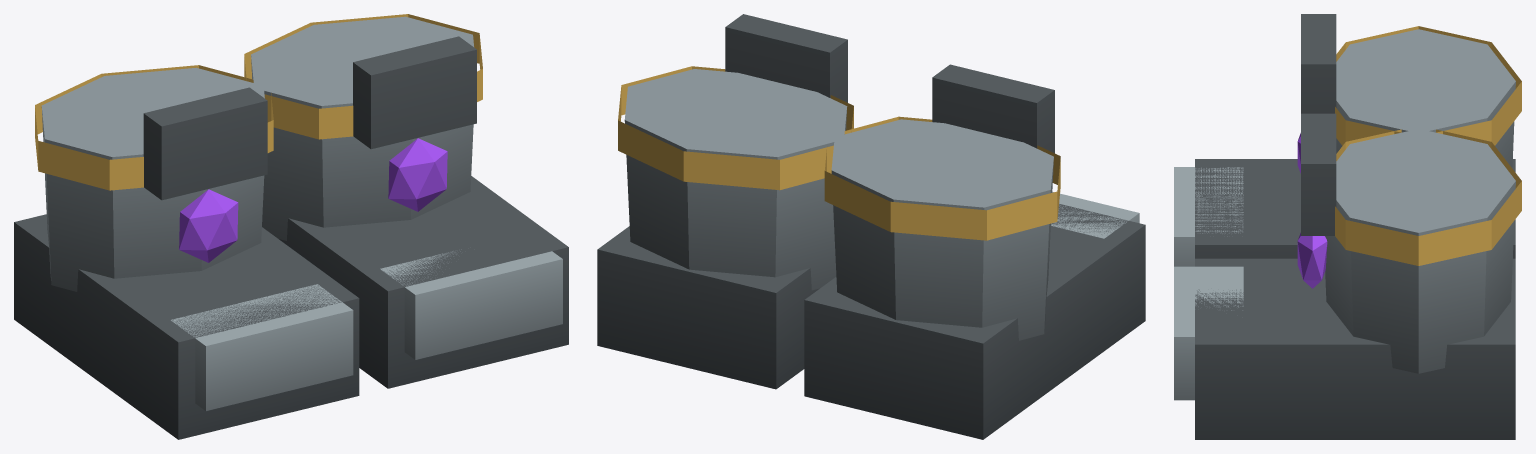
File: berserker_guard_boots_t3.glb
3 views of the same model, side by side, from view 1: azimuth 30°, elevation 25°; view 2: azimuth 150°, elevation 25°; view 3: azimuth 270°, elevation 25° (orthographic). The views are drawn at different scales.
Visible parts, largest first — view 1: berserker_guard_boots_t3__foot_r, berserker_guard_boots_t3__lowerleg_r, berserker_guard_boots_t3__lowerleg_l, berserker_guard_boots_t3__foot_l; view 2: berserker_guard_boots_t3__lowerleg_r, berserker_guard_boots_t3__lowerleg_l, berserker_guard_boots_t3__foot_r, berserker_guard_boots_t3__foot_l; view 3: berserker_guard_boots_t3__foot_l, berserker_guard_boots_t3__lowerleg_l, berserker_guard_boots_t3__lowerleg_r, berserker_guard_boots_t3__foot_r.
Part boxes in pixels (box(x1,y1,x2,y2)): berserker_guard_boots_t3__foot_r: box(14, 214, 359, 439); berserker_guard_boots_t3__lowerleg_r: box(35, 65, 273, 291); berserker_guard_boots_t3__lowerleg_l: box(244, 14, 482, 240); berserker_guard_boots_t3__foot_l: box(279, 176, 568, 388); berserker_guard_boots_t3__lowerleg_r: box(824, 64, 1060, 340); berserker_guard_boots_t3__lowerleg_l: box(618, 14, 853, 290); berserker_guard_boots_t3__foot_r: box(804, 191, 1145, 439); berserker_guard_boots_t3__foot_l: box(597, 226, 819, 389); berserker_guard_boots_t3__foot_l: box(1174, 258, 1515, 439); berserker_guard_boots_t3__lowerleg_l: box(1297, 113, 1521, 373); berserker_guard_boots_t3__lowerleg_r: box(1297, 14, 1521, 173); berserker_guard_boots_t3__foot_r: box(1174, 159, 1515, 266).
Bounding box in the file's own units: 1.43 × 0.8207 × 1.
2 materials, 1 textured.
